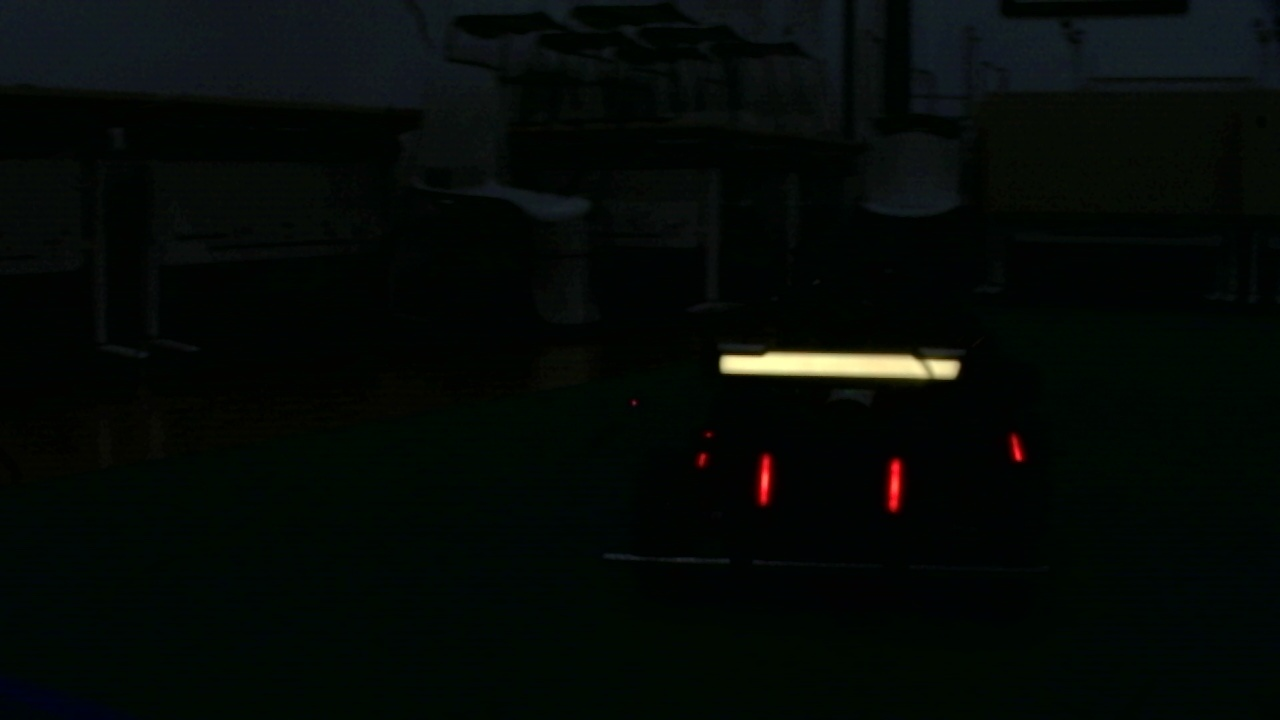lamp: (885, 447, 907, 521), (756, 449, 772, 518), (1009, 423, 1021, 465)
notpair1: (885, 434, 1025, 524)
pair1: (757, 450, 907, 520)
